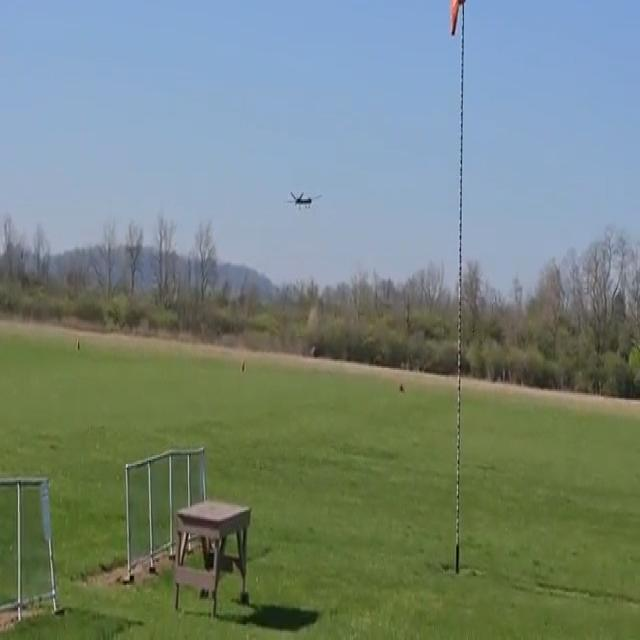iha: (287, 192, 320, 208)
